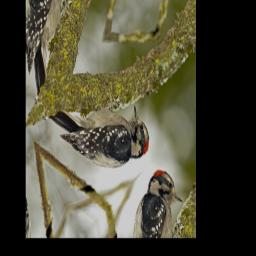Woodpecker: (41, 48, 155, 217)
